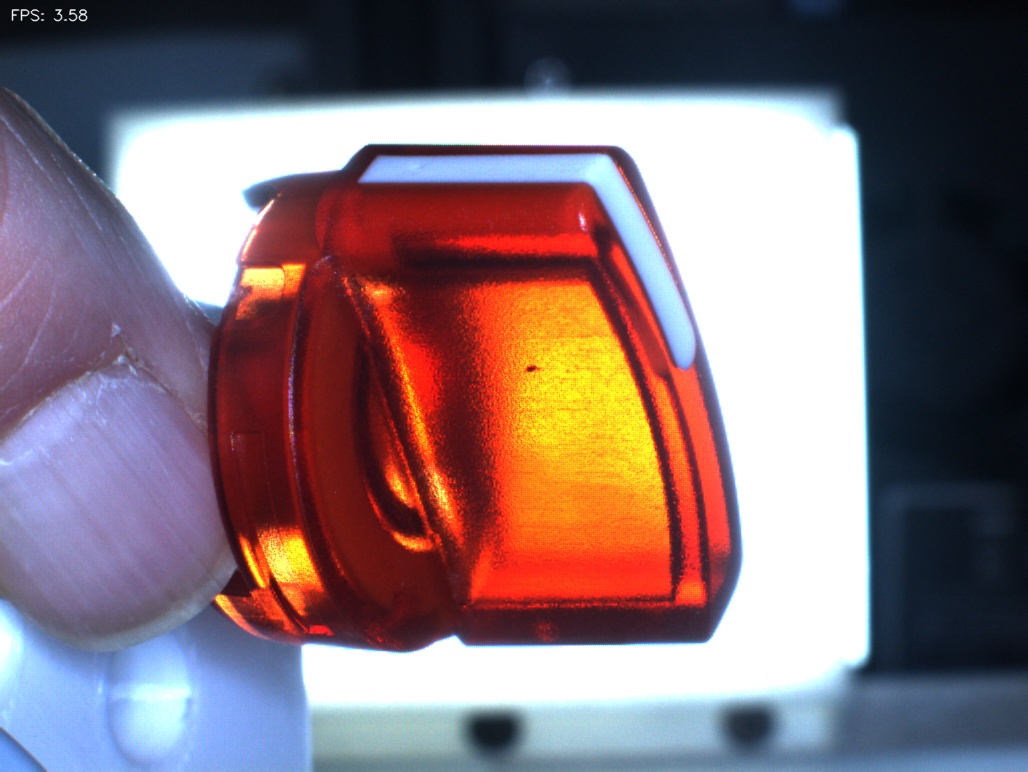PointNoir: (492, 333, 578, 415)
